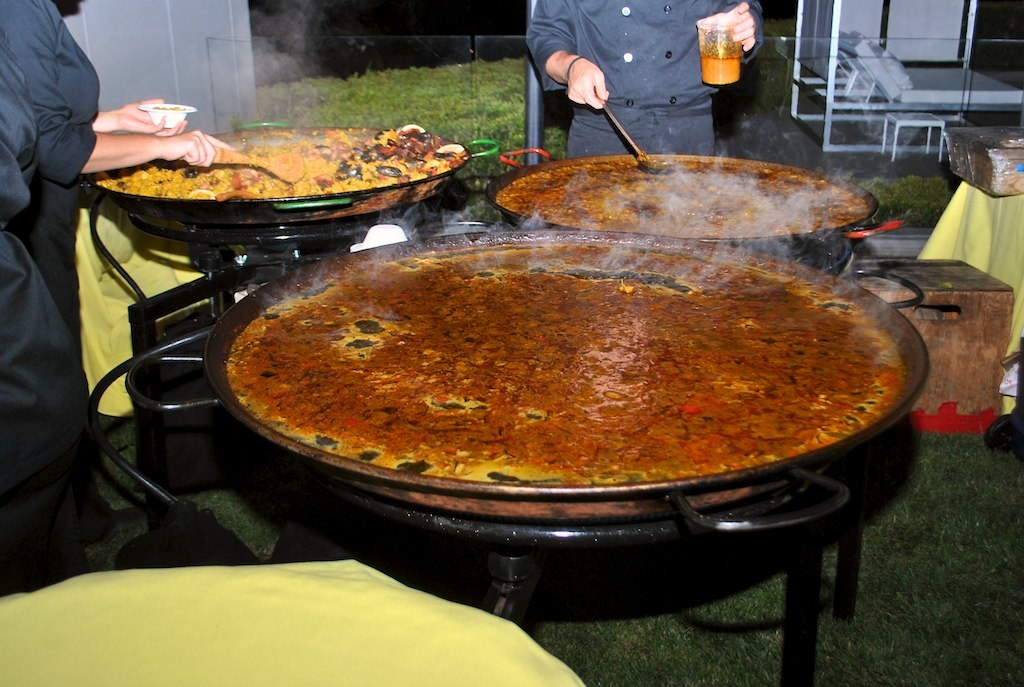Person: (0, 0, 234, 599), (525, 0, 763, 155)
